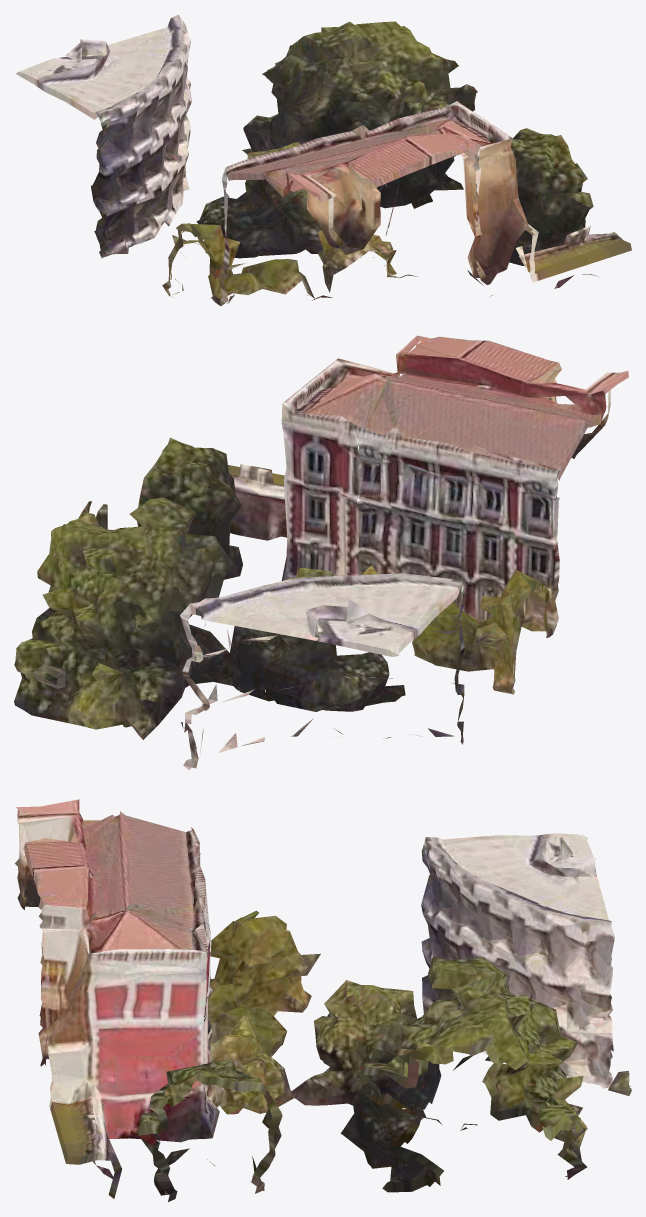
3 views of the same model, one above another, from view 1: azimuth 30°, elevation 25°; view 2: azimuth 150°, elevation 25°; view 3: azimuth 270°, elevation 25° (orthographic). The views are drawn at different scales.
Visible parts, largest first — view 1: Mesh_0; view 2: Mesh_0; view 3: Mesh_0.
Boxes of the visible parts, x1,y1,x2,y2 form: Mesh_0: (16, 14, 631, 305); Mesh_0: (14, 335, 628, 769); Mesh_0: (15, 799, 631, 1201).
Size of the model in its own units: 33.45 by 16.4 by 41.1.
2 materials, 2 textured.
